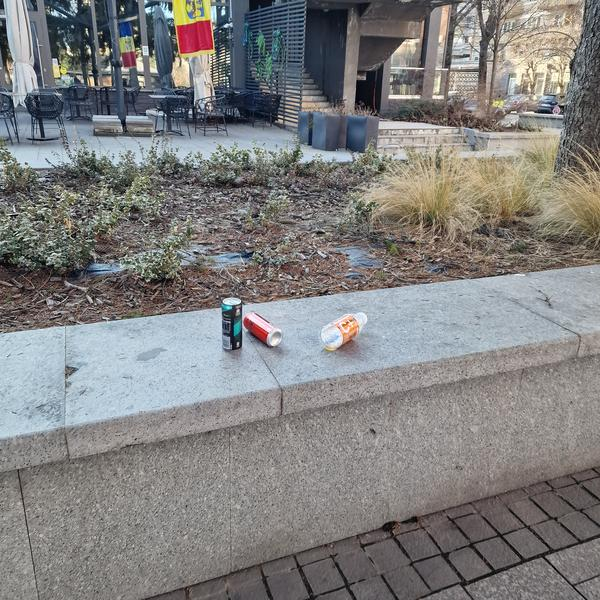can: (238, 309, 286, 350), (221, 297, 243, 351)
plastic_bottle: (313, 303, 373, 356)
